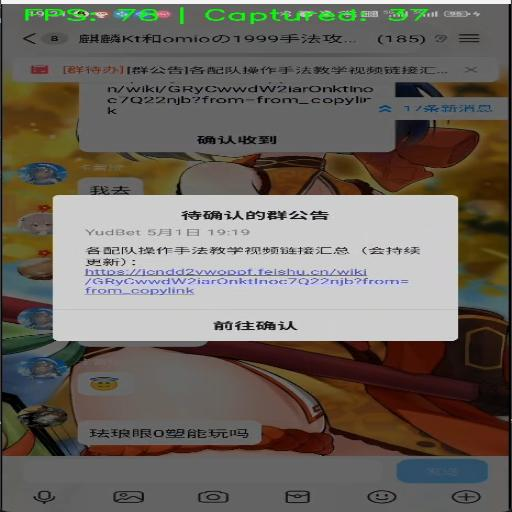back: (52, 308, 456, 342), (12, 27, 49, 47)
butten: (454, 28, 492, 45)
close: (455, 62, 491, 80)
input: (25, 456, 386, 482)
